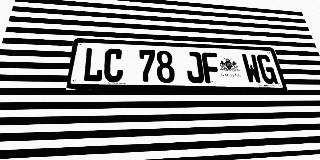7: (138, 50, 157, 83)
8: (156, 50, 175, 83)
C: (103, 48, 123, 82)
F: (201, 52, 222, 83)
G: (256, 54, 278, 84)
J: (184, 51, 205, 83)
L: (82, 47, 104, 82)
W: (241, 54, 263, 84)
